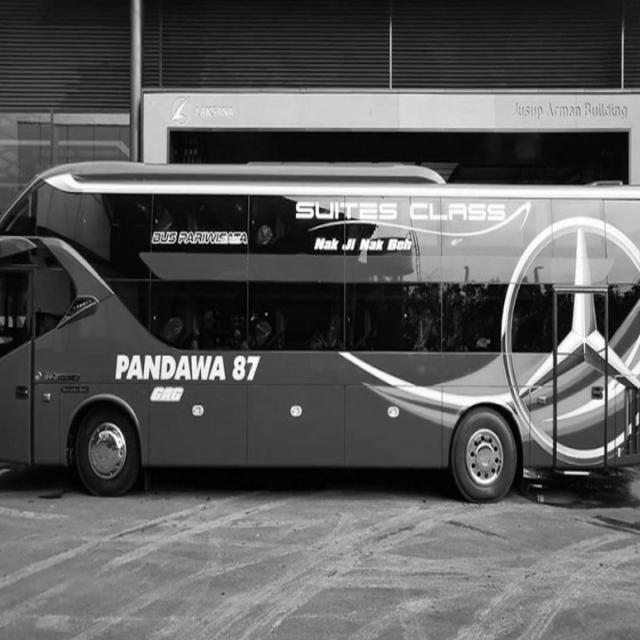Bus: (0, 160, 640, 502)
